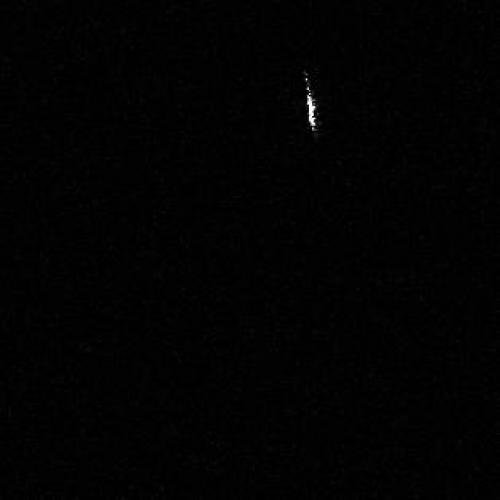ship: (305, 83, 318, 132)
